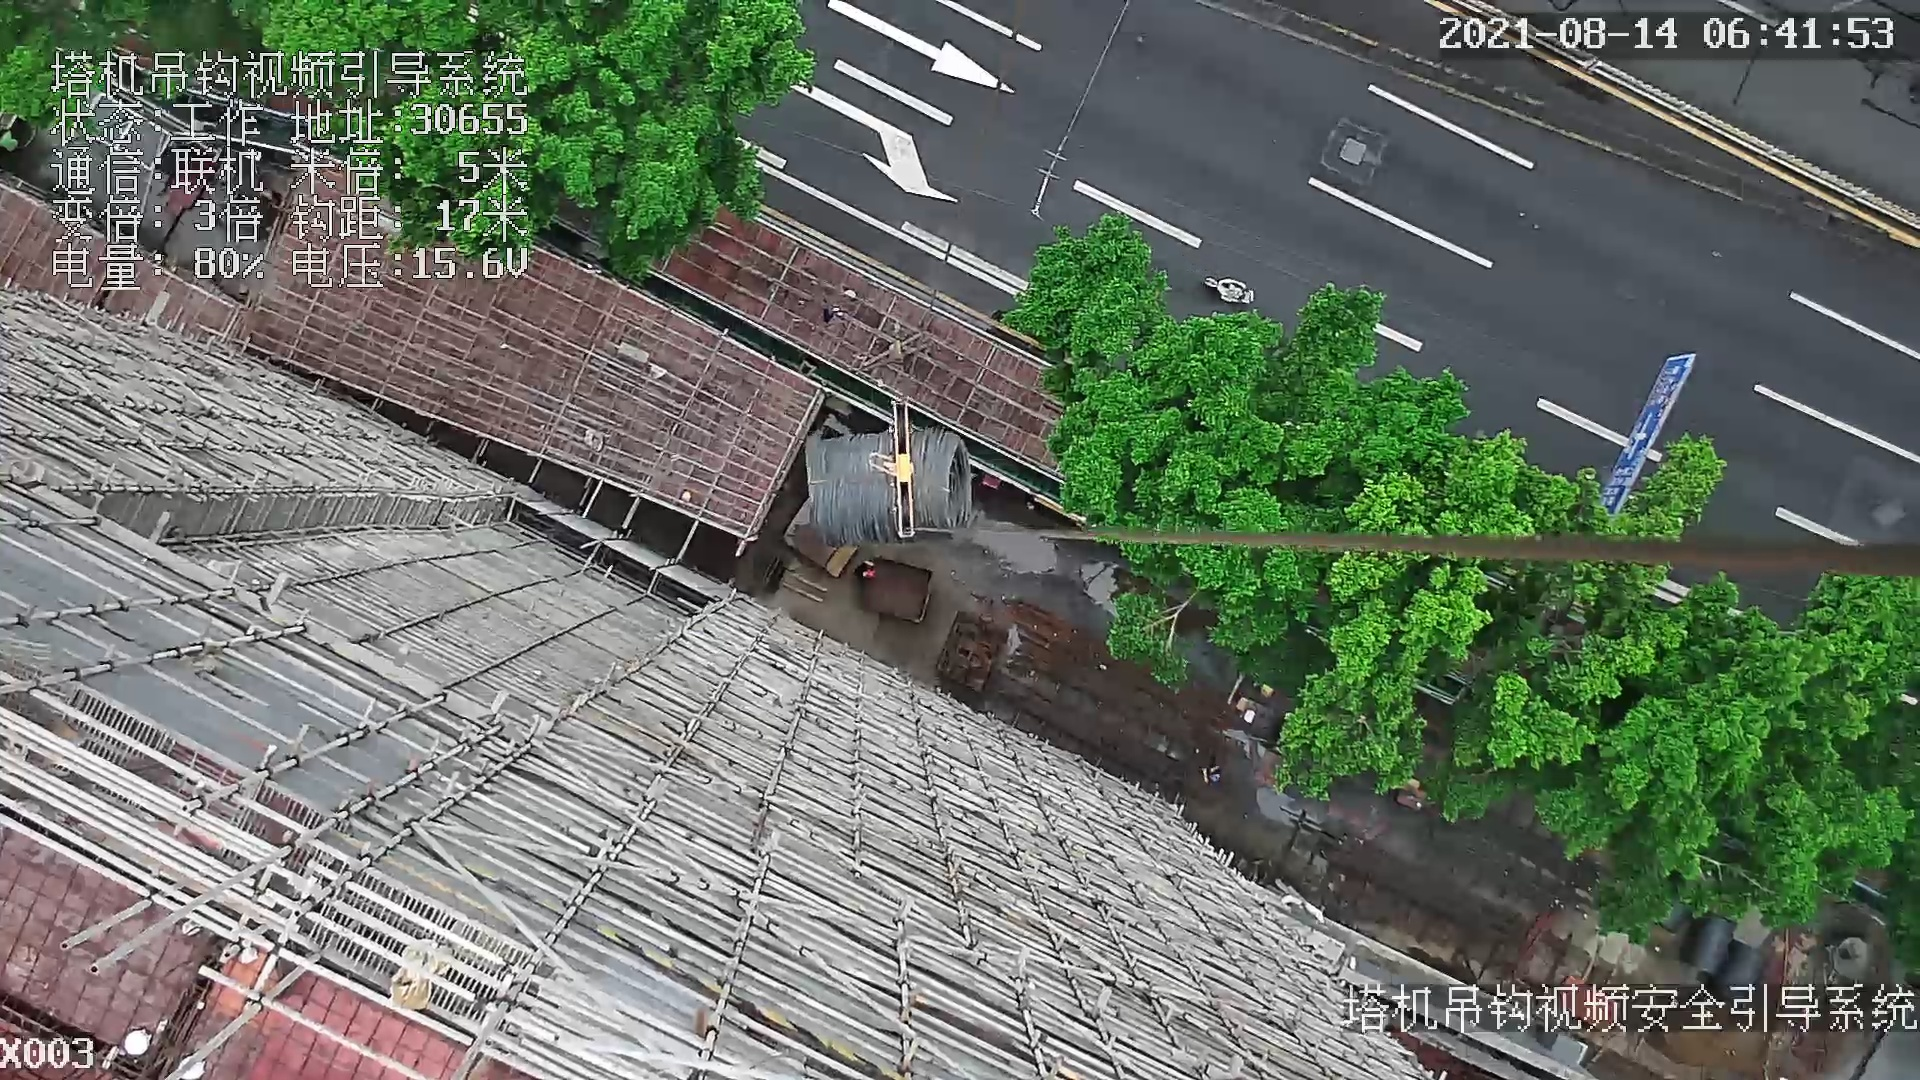hook: (867, 400, 918, 540)
person: (1204, 274, 1260, 308), (1203, 759, 1223, 787), (854, 559, 875, 580)
